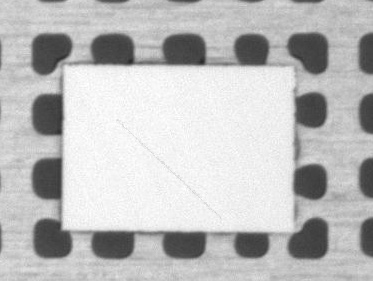DIE_CRACK: (155, 90, 293, 164)
